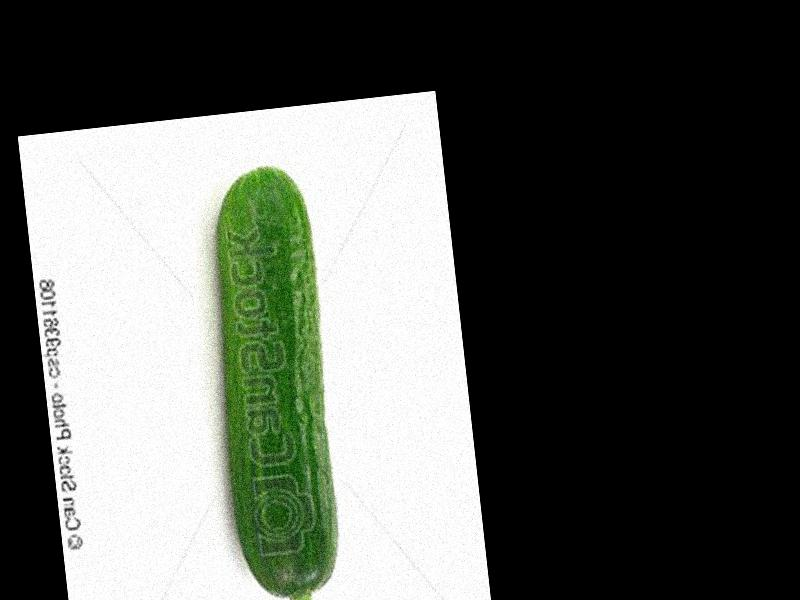Cucumber: (196, 159, 353, 600)
